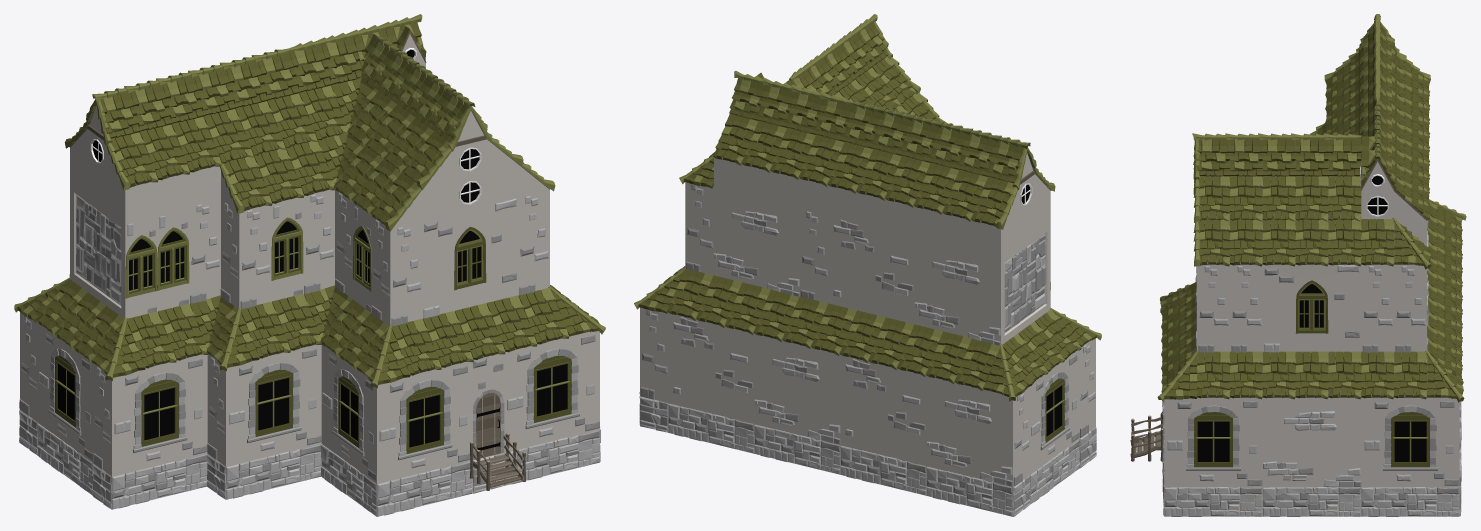
Rendered from House_09.glb.
The picture shows the model from 3 angles, left to right: view 1: azimuth 30°, elevation 25°; view 2: azimuth 150°, elevation 25°; view 3: azimuth 270°, elevation 25°; orthographic projection. The views are drawn at different scales.
Parts seen in each view (by area): view 1: WINDOW_05_10, WINDOW_05_11, WINDOW_05_14, WINDOW_02_2, WINDOW_05_12, WINDOW_05_13, WALL_02_2, WINDOW_05_15, FOUNDATION_03_6, FOUNDATION_03_5, WINDOW_01_02, WALL_06_15 (+80 smaller); view 2: WALL_03_5, WALL_01_5, WALL_03_4, WALL_01_4, WALL_01_6, WALL_03_8, WALL_03_7, WINDOW_05_15, WALL_02_2, FOUNDATION_03_11, FOUNDATION_03_10, FOUNDATION_03_9 (+65 smaller); view 3: WALL_03_6, WINDOW_05_17, WINDOW_05_16, WINDOW_02_3, FOUNDATION_03_13, FOUNDATION_03_14, FOUNDATION_03_12, WALL_06_21, WALL_06_20, WALL_06_22, WALL_06_19, ROOF_BASE_20 (+60 smaller).
Part boxes in pixels (bbox=[...]): WINDOW_05_10: bbox=[112, 354, 207, 475]; WINDOW_05_11: bbox=[226, 344, 321, 465]; WINDOW_05_14: bbox=[504, 331, 600, 452]; WINDOW_02_2: bbox=[422, 197, 517, 318]; WINDOW_05_12: bbox=[377, 361, 472, 482]; WINDOW_05_13: bbox=[321, 345, 378, 483]; WALL_02_2: bbox=[70, 181, 128, 318]; WINDOW_05_15: bbox=[38, 324, 93, 462]; FOUNDATION_03_6: bbox=[112, 453, 207, 509]; FOUNDATION_03_5: bbox=[226, 443, 321, 499]; WINDOW_01_02: bbox=[157, 206, 189, 311]; WALL_06_15: bbox=[390, 221, 422, 325]; WALL_03_5: bbox=[754, 334, 840, 444]; WALL_01_5: bbox=[668, 313, 754, 423]; WALL_03_4: bbox=[927, 376, 1013, 486]; WALL_01_4: bbox=[841, 355, 926, 465]; WALL_01_6: bbox=[828, 215, 914, 324]; WALL_03_8: bbox=[914, 236, 1001, 345]; WALL_03_7: bbox=[713, 187, 799, 296]; WINDOW_05_15: bbox=[1029, 350, 1079, 474]; WALL_02_2: bbox=[1001, 221, 1050, 344]; FOUNDATION_03_11: bbox=[668, 403, 754, 453]; FOUNDATION_03_10: bbox=[754, 424, 840, 474]; FOUNDATION_03_9: bbox=[840, 445, 926, 495]; WALL_03_6: bbox=[1262, 397, 1361, 486]; WINDOW_05_17: bbox=[1164, 397, 1262, 486]; WINDOW_05_16: bbox=[1361, 397, 1459, 486]; WINDOW_02_3: bbox=[1262, 264, 1361, 352]; FOUNDATION_03_13: bbox=[1262, 487, 1361, 516]; FOUNDATION_03_14: bbox=[1164, 487, 1262, 516]; FOUNDATION_03_12: bbox=[1361, 487, 1459, 516]; WALL_06_21: bbox=[1361, 264, 1393, 353]; WALL_06_20: bbox=[1230, 264, 1262, 353]; WALL_06_22: bbox=[1394, 264, 1426, 353]; WALL_06_19: bbox=[1197, 264, 1229, 353]; ROOF_BASE_20: bbox=[1295, 351, 1328, 399].
Size of the model in its own units: 13.41 by 11.23 by 10.24.
Materials: 1 (1 with a texture image).
